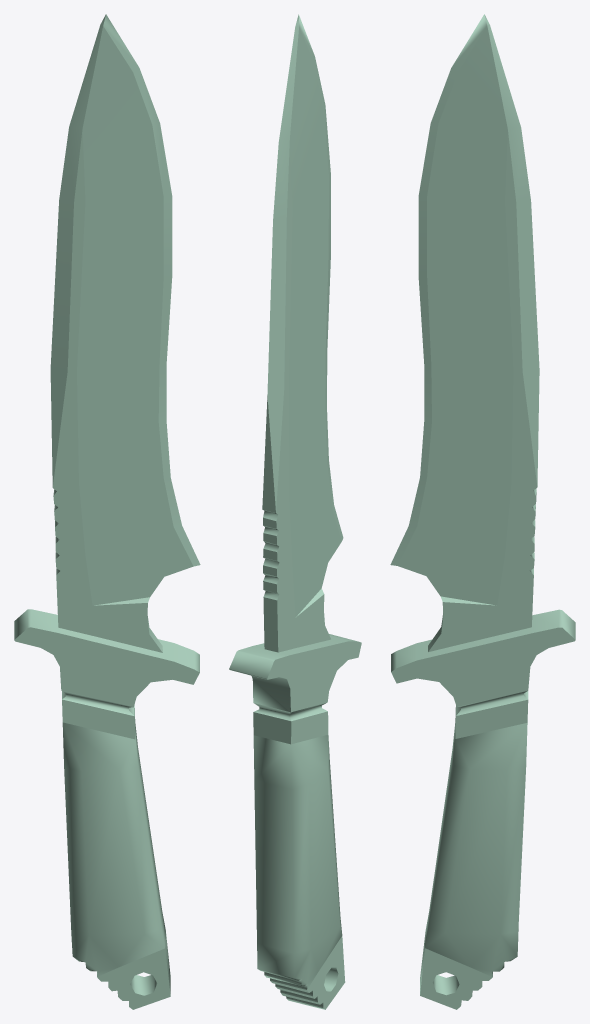
The model's file is classknife.obj.
The picture shows the model from 3 angles, left to right: view 1: azimuth 90°, elevation 25°; view 2: azimuth 150°, elevation 25°; view 3: azimuth 270°, elevation 25°; orthographic projection.
Visible parts, largest first — view 1: m9_bayonet; view 2: m9_bayonet; view 3: m9_bayonet.
Part boxes in pixels (bbox=[...]): m9_bayonet: bbox=[14, 14, 200, 1009]; m9_bayonet: bbox=[229, 14, 361, 1009]; m9_bayonet: bbox=[390, 14, 575, 1009].
Size of the model in its own units: 0.86 by 15.35 by 2.62.
